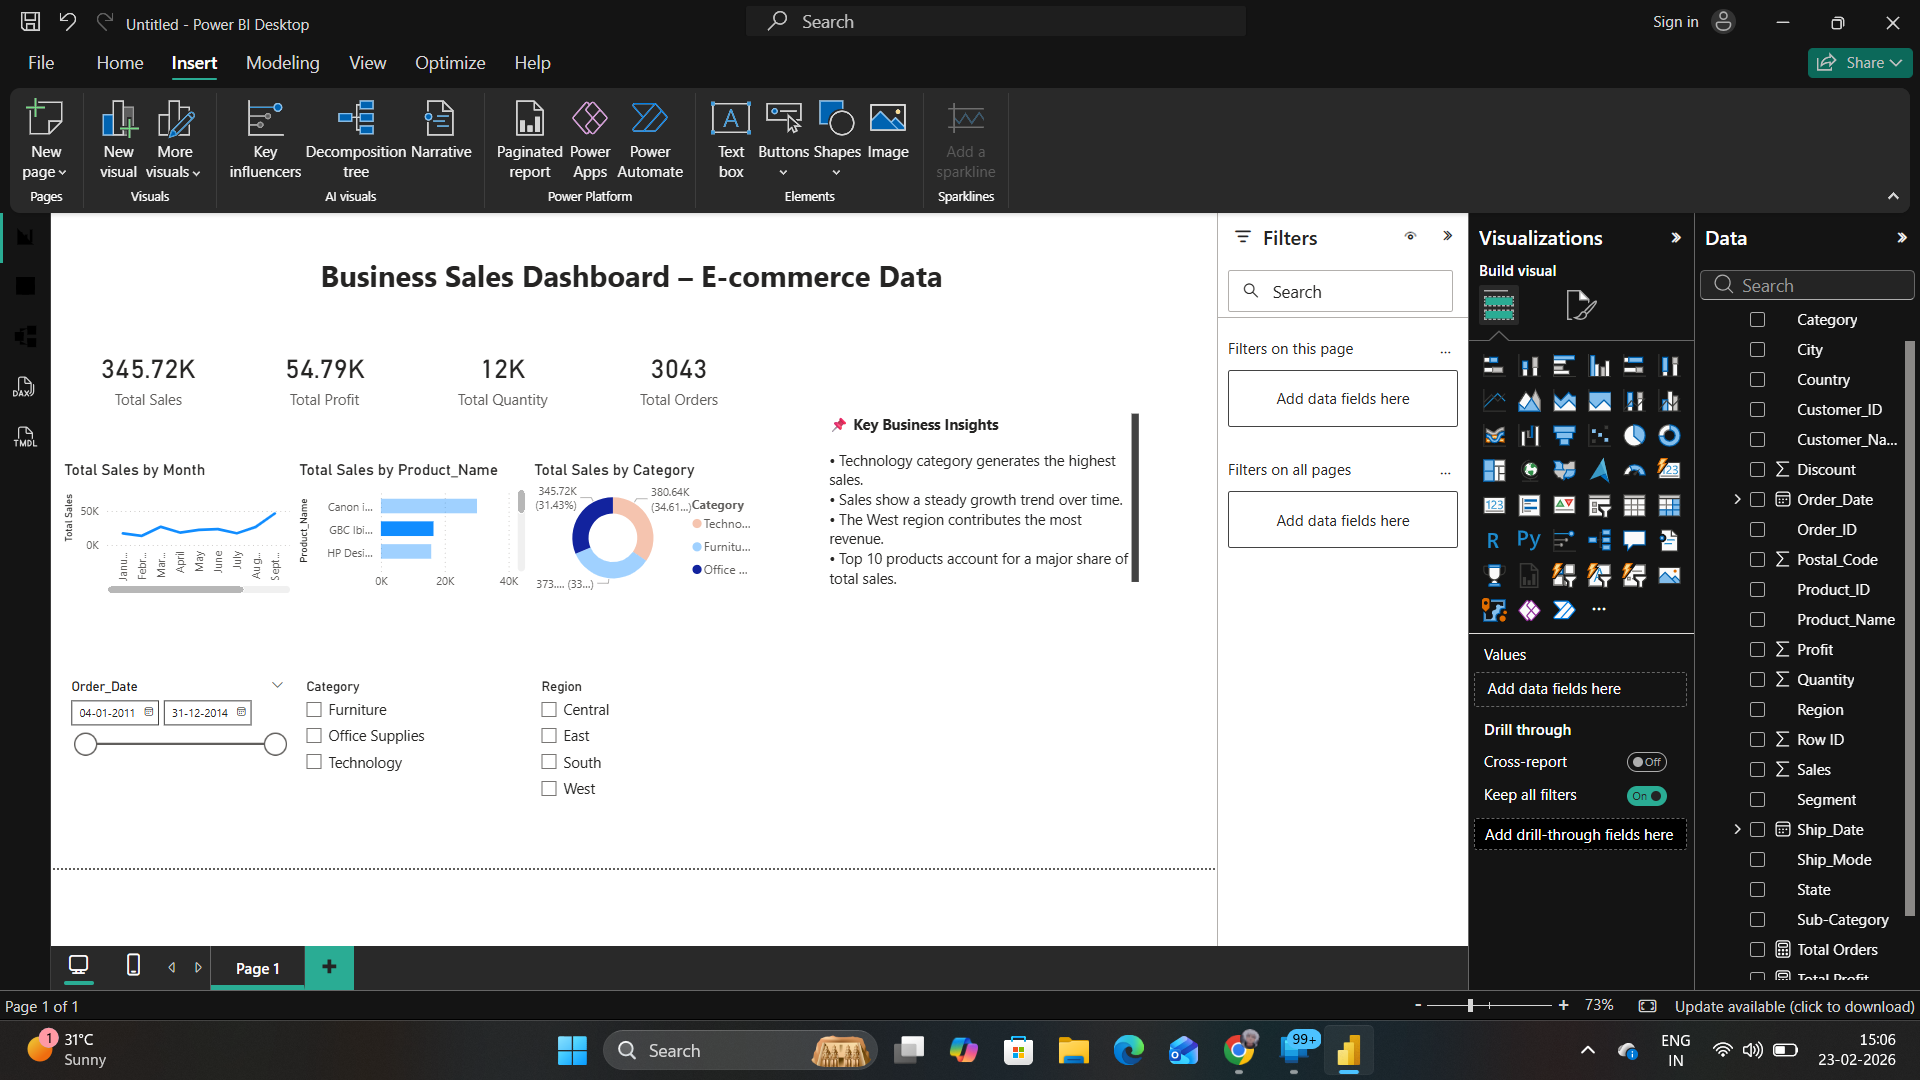

Layout of this report page (visuals, bound fields, positions):
{"tool":"powerbi","page":{"name":"Page 1","canvas":[1280,720],"ordinal":0},"visuals":[{"type":"card","fields":{"Values":["Orders.Total Sales"]},"box":[9.6,104.3,194.9,150.9],"z":0},{"type":"card","fields":{"Values":["Orders.Total Profit"]},"box":[204.5,104.3,192.1,150.9],"z":1000},{"type":"card","fields":{"Values":["Orders.Total Quantity"]},"box":[396.6,104.3,199,150.9],"z":2000},{"type":"card","fields":{"Values":["Orders.Total Orders"]},"box":[595.5,104.3,188,150.9],"z":3000},{"type":"lineChart","fields":{"Category":["Orders.Order_Date.Variation.Date Hierarchy.Month"],"Y":["Orders.Total Sales"]},"box":[9.6,271.7,258,150.9],"z":4000},{"type":"barChart","fields":{"Category":["Orders.Product_Name"],"Y":["Orders.Total Sales"]},"box":[267.6,271.7,258,150.9],"z":5000},{"type":"donutChart","fields":{"Category":["Orders.Category"],"Y":["Orders.Total Sales"]},"box":[525.6,271.7,258,150.9],"z":6000},{"type":"slicer","fields":{"Values":["Orders.Order_Date"]},"box":[9.6,506.3,258,150.9],"z":6001},{"type":"slicer","fields":{"Values":["Orders.Category"]},"box":[267.6,506.3,258,150.9],"z":6002},{"type":"slicer","fields":{"Values":["Orders.Region"]},"box":[525.6,506.3,258,150.9],"z":6003},{"type":"textbox","box":[849.4,215.4,349.9,197.6],"z":6004},{"type":"textbox","box":[9.6,42.5,1255.6,61.7],"z":6005}]}

Visuals, with their boxes on the page's 1280x720 design canvas (x1, y1, x2, y2). These are canvas units, not pixel positions in the 1920x1080 screenshot, which may show the page scaled, cropped or inside an application window:
card - Orders.Total Sales: (10, 104, 204, 255)
card - Orders.Total Profit: (204, 104, 397, 255)
card - Orders.Total Quantity: (397, 104, 596, 255)
card - Orders.Total Orders: (596, 104, 784, 255)
lineChart - Orders.Order_Date.Variation.Date Hierarchy.Month x Orders.Total Sales: (10, 272, 268, 423)
barChart - Orders.Product_Name x Orders.Total Sales: (268, 272, 526, 423)
donutChart - Orders.Category x Orders.Total Sales: (526, 272, 784, 423)
slicer - Orders.Order_Date: (10, 506, 268, 657)
slicer - Orders.Category: (268, 506, 526, 657)
slicer - Orders.Region: (526, 506, 784, 657)
textbox: (849, 215, 1199, 413)
textbox: (10, 42, 1265, 104)
